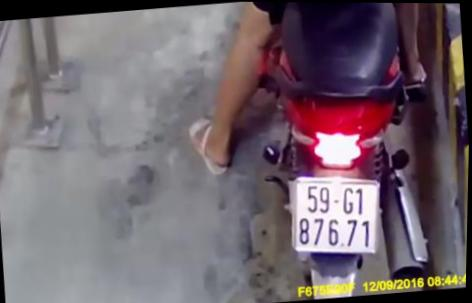LP: (285, 167, 388, 261)
